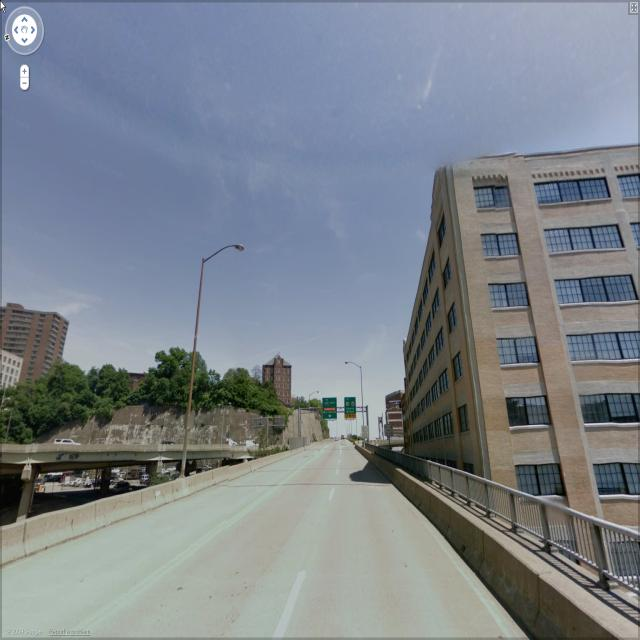b_1: (399, 147, 640, 526), (1, 296, 75, 378), (262, 351, 295, 406), (1, 350, 27, 383)
